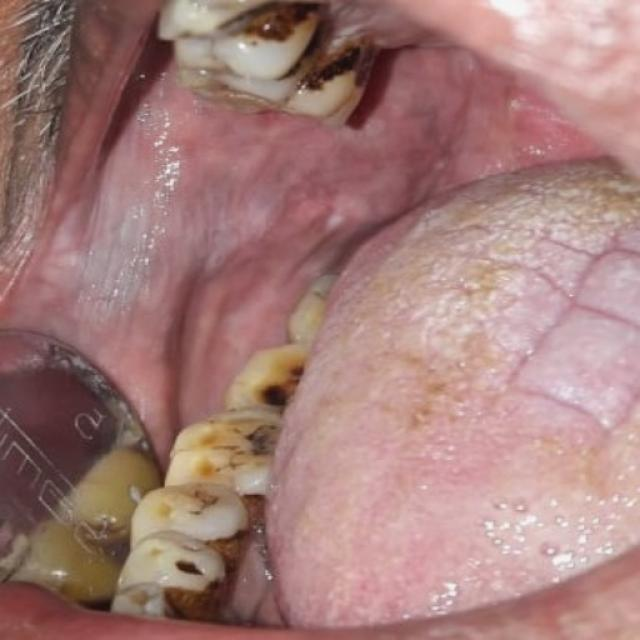leukoplakia-detection: (39, 133, 321, 369)
processing_area: (4, 0, 639, 632)
